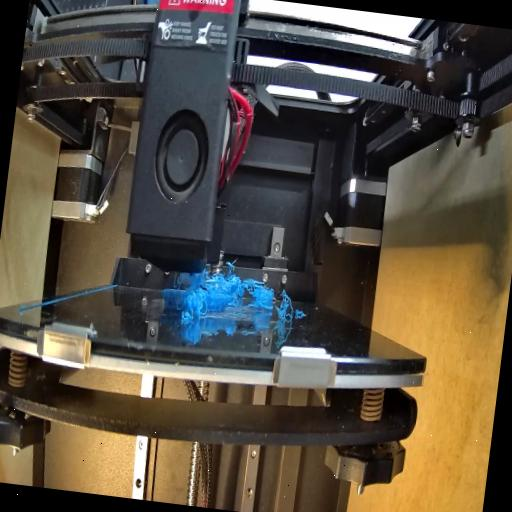spaghetti: (213, 270, 280, 312), (182, 270, 212, 328), (278, 290, 300, 326)
